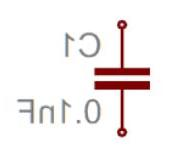Capacitor: (89, 50, 150, 99)
